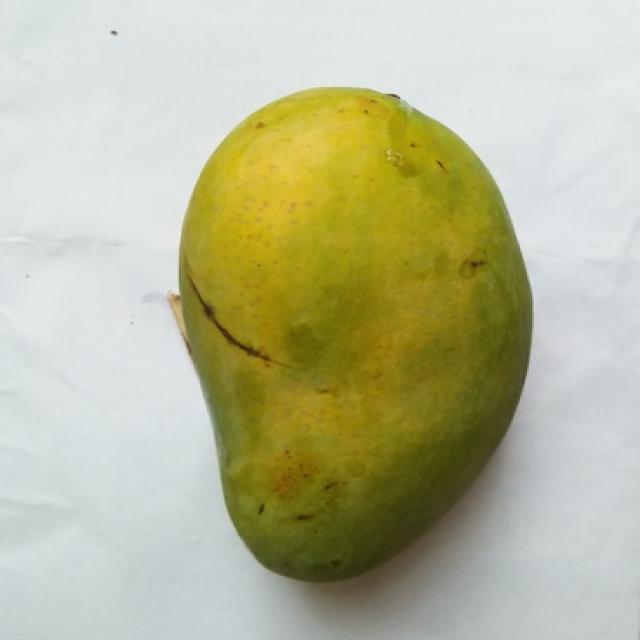Mango: (169, 88, 530, 580)
